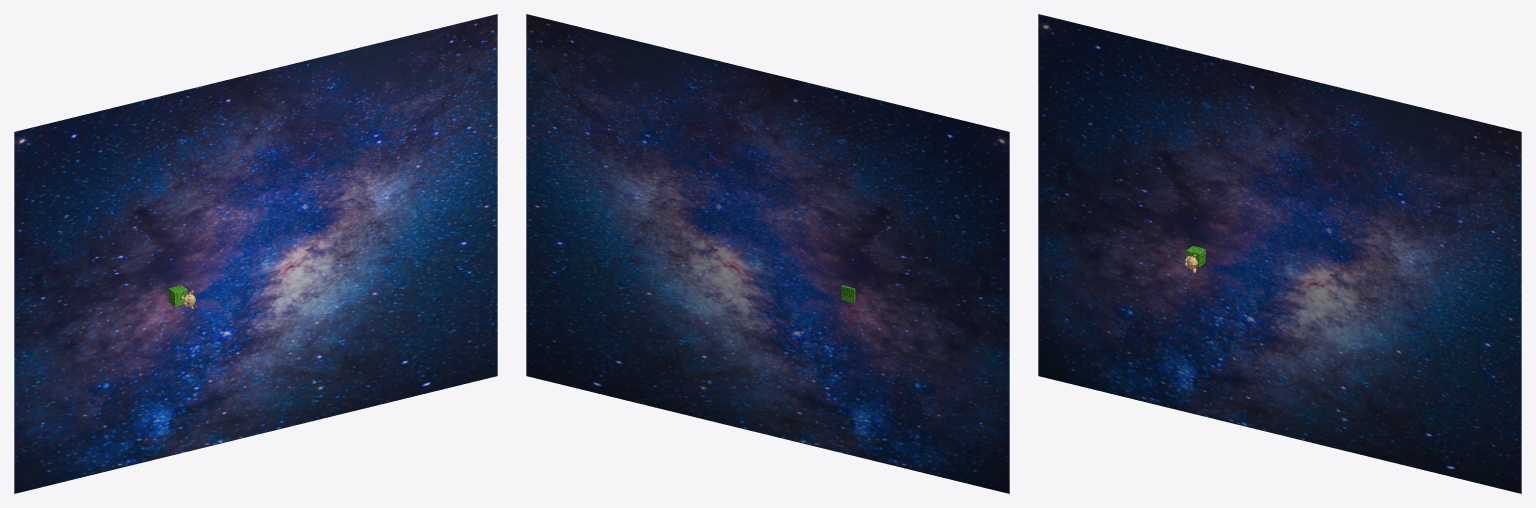
File: assign_with_texture.obj
3 views of the same model, side by side, from view 1: azimuth 30°, elevation 25°; view 2: azimuth 150°, elevation 25°; view 3: azimuth 330°, elevation 25° (orthographic).
Parts seen in each view (by area): view 1: Plane; view 2: Plane; view 3: Plane.
Boxes of the visible parts, x1=… form: Plane: x1=14, y1=14, x2=497, y2=493; Plane: x1=526, y1=14, x2=1009, y2=493; Plane: x1=1038, y1=14, x2=1521, y2=493.
Size of the model in its own units: 74.29 by 53.18 by 3.89.
3 materials, 3 textured.
